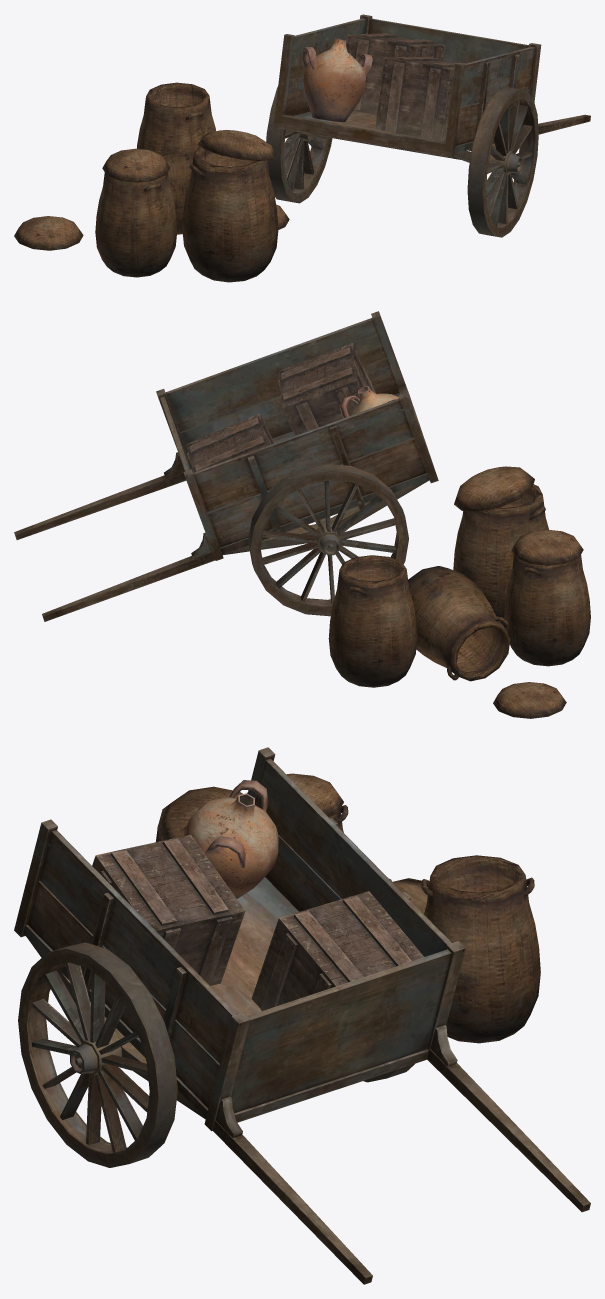
The model's file is TELEMA_Scavenger_Wooden_Handcart_Loaded_A-transformed.glb.
The picture shows the model from 3 angles, top to bottom: view 1: azimuth 30°, elevation 25°; view 2: azimuth 150°, elevation 25°; view 3: azimuth 270°, elevation 25°; orthographic projection. The views are drawn at different scales.
Visible parts, largest first — view 1: default; view 2: default; view 3: default.
Boxes of the visible parts, box(x1,y1,x2,y2) form: default: box(14, 14, 590, 282); default: box(14, 311, 590, 718); default: box(14, 747, 590, 1284).
Bounding box in the file's own units: 2.87 × 1.03 × 1.75.
Materials: 4 (4 with a texture image).
